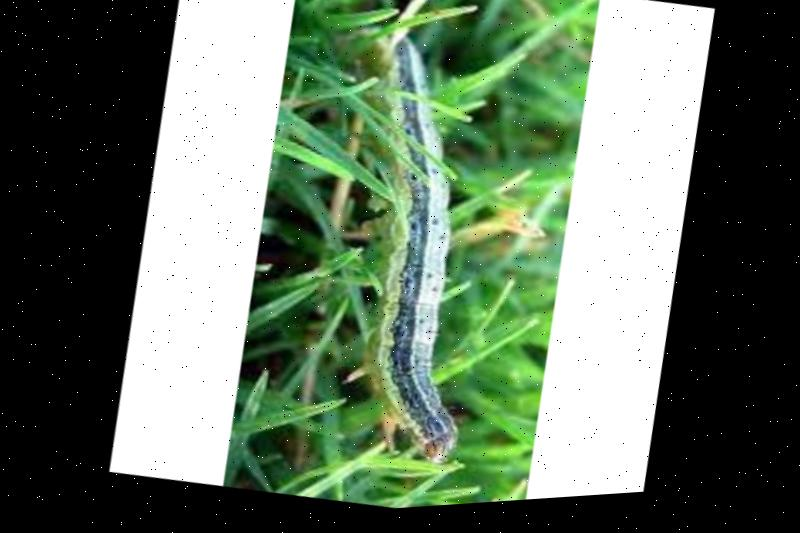fall-armyworm: (361, 39, 454, 467)
